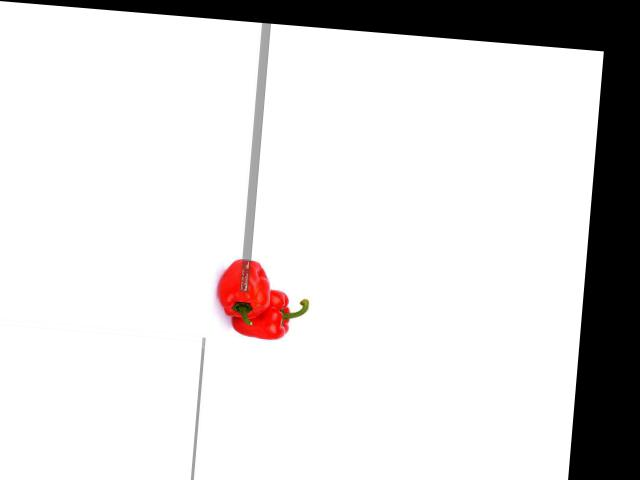bell_pepper: (216, 250, 278, 325)
